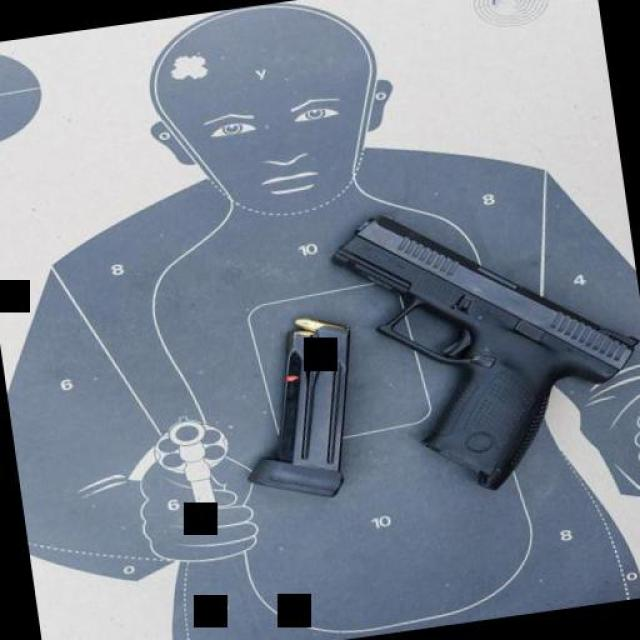gun: (324, 172, 640, 510)
